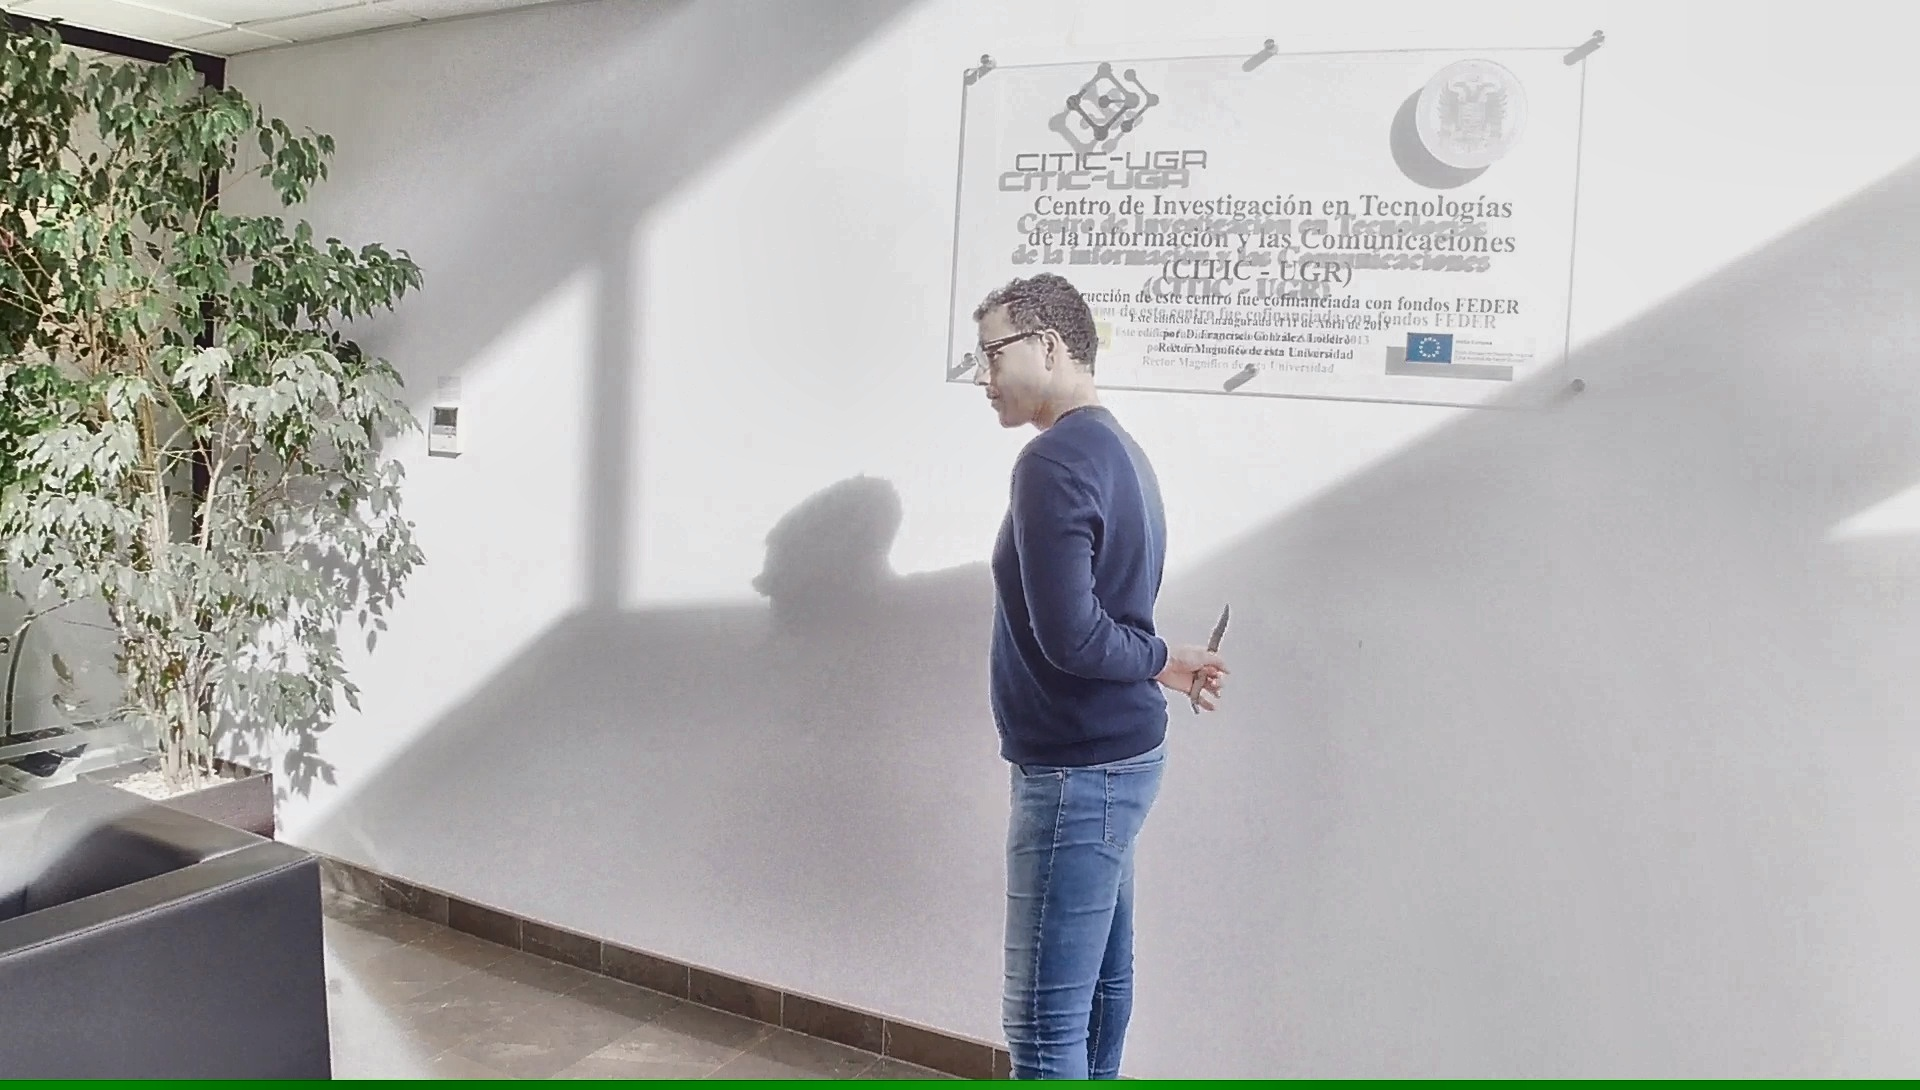knife: (1185, 590, 1238, 720)
